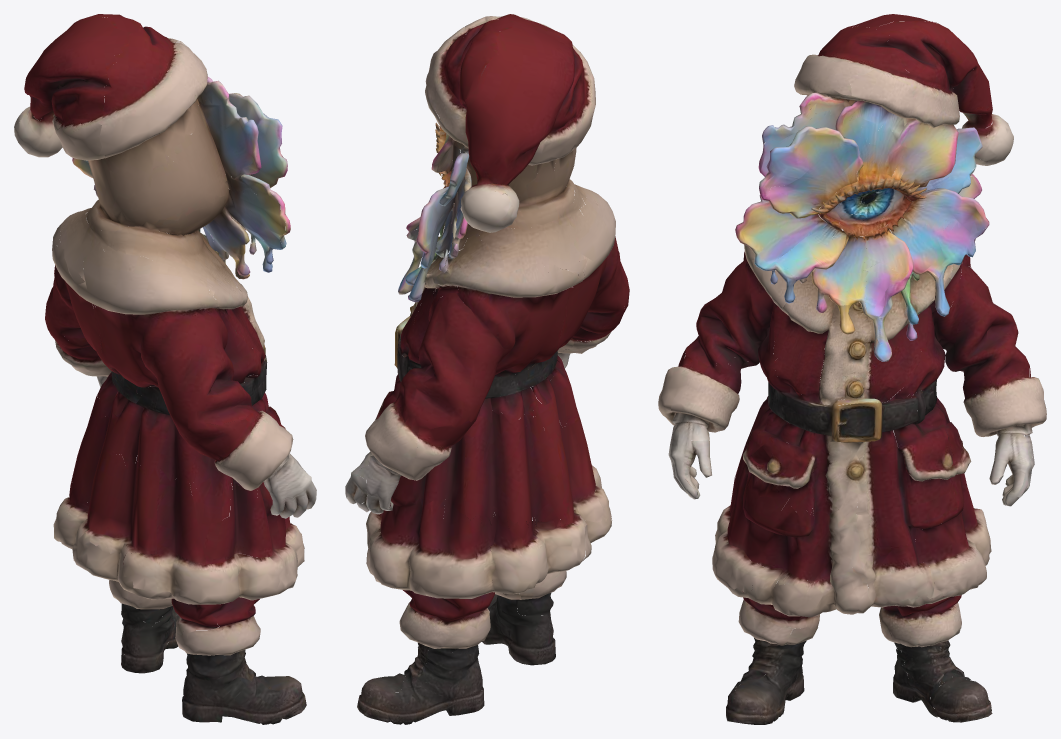
The model's file is lt_santa_ef.glb.
3 renders of one model, left to right at view 1: azimuth 30°, elevation 25°; view 2: azimuth 150°, elevation 25°; view 3: azimuth 270°, elevation 25°, orthographic. The views are drawn at different scales.
Visible parts, largest first — view 1: tripo_node_9ce56338-dfc6-40b8-ab36-d2897d8e8072; view 2: tripo_node_9ce56338-dfc6-40b8-ab36-d2897d8e8072; view 3: tripo_node_9ce56338-dfc6-40b8-ab36-d2897d8e8072.
Boxes of the visible parts, box(x1,y1,x2,y2) form: tripo_node_9ce56338-dfc6-40b8-ab36-d2897d8e8072: box(14, 14, 316, 724); tripo_node_9ce56338-dfc6-40b8-ab36-d2897d8e8072: box(345, 14, 629, 724); tripo_node_9ce56338-dfc6-40b8-ab36-d2897d8e8072: box(658, 14, 1046, 724).
Bounding box in the file's own units: 0.3352 × 1 × 0.5368.
1 material, 1 textured.
